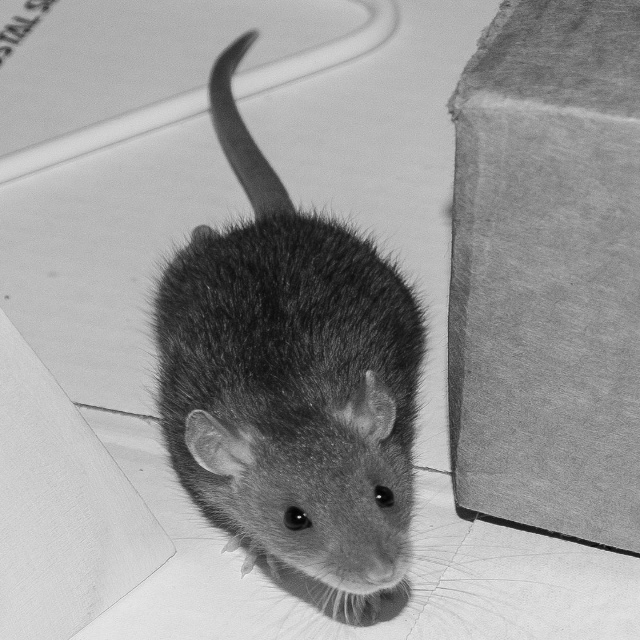Mouse: (138, 28, 537, 640)
